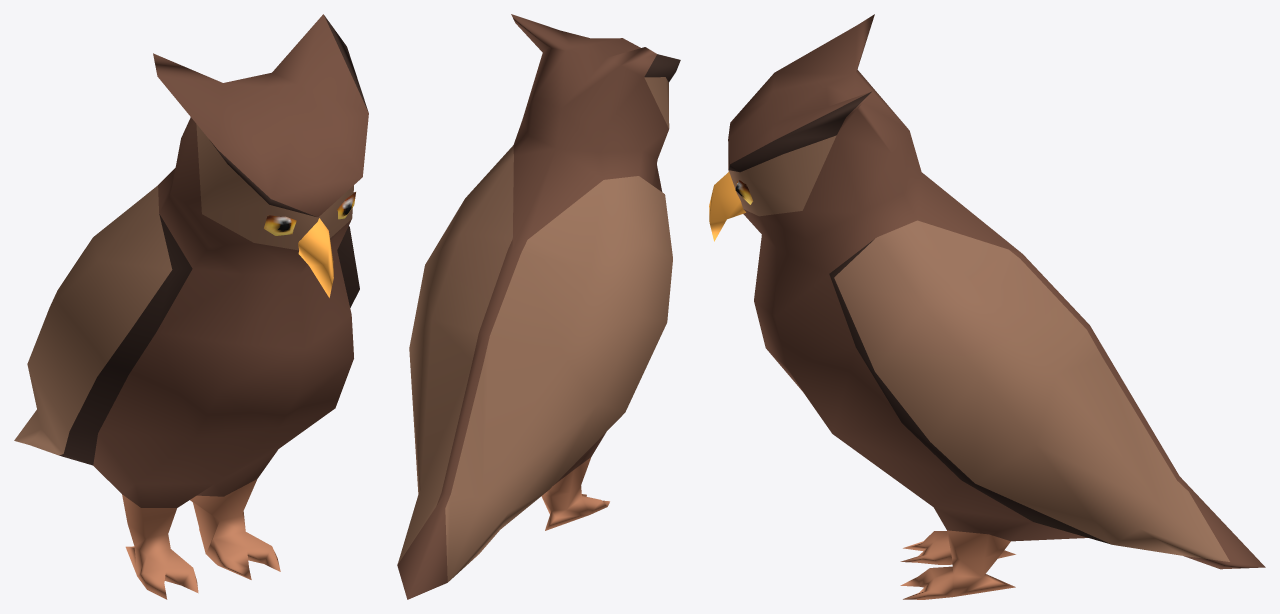
Rendered from 7b3d3af2-fb43-4549-b471-7cfba8702a71.glb.
3 views of the same model, side by side, from view 1: azimuth 30°, elevation 25°; view 2: azimuth 150°, elevation 25°; view 3: azimuth 270°, elevation 25° (orthographic). The views are drawn at different scales.
Visible parts, largest first — view 1: Owl01; view 2: Owl01; view 3: Owl01.
Part boxes in pixels (x1=…): Owl01: x1=14, y1=14, x2=368, y2=599; Owl01: x1=397, y1=14, x2=680, y2=599; Owl01: x1=709, y1=14, x2=1265, y2=599.
Size of what is drawn, in the model's own units: 0.3527 by 0.715 by 0.6921.
1 material, 1 textured.
